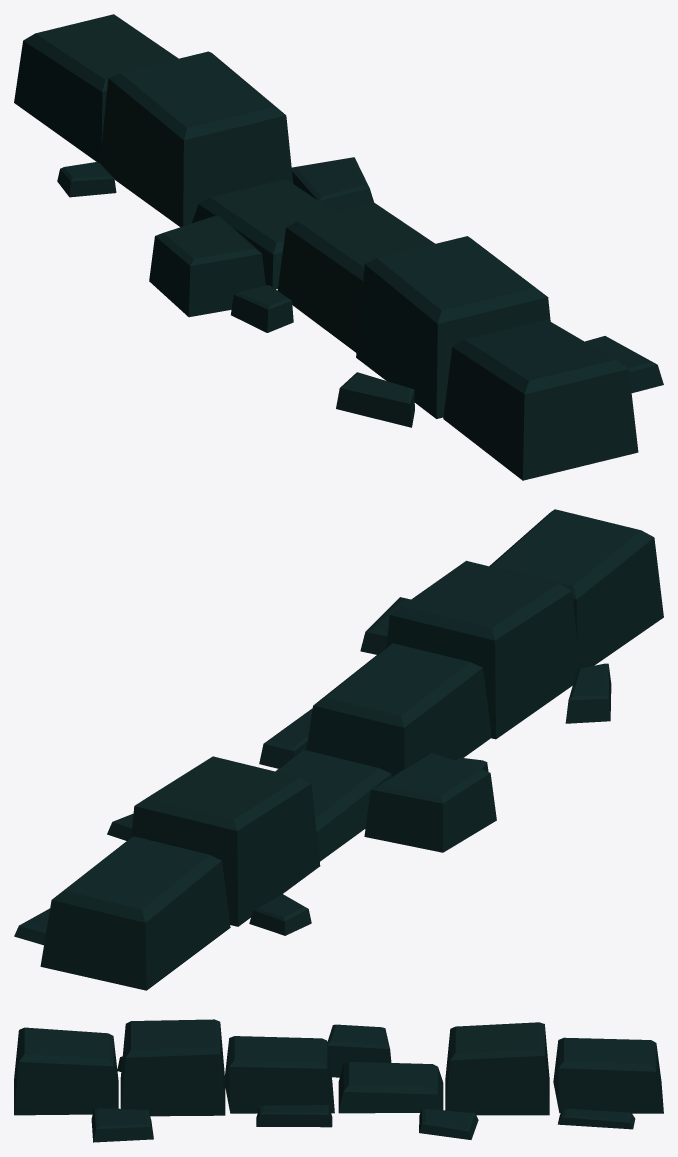
The model's file is fencesection010_stone_0_lev1.glb.
3 views of the same model, one above another, from view 1: azimuth 30°, elevation 25°; view 2: azimuth 150°, elevation 25°; view 3: azimuth 270°, elevation 25° (orthographic). The views are drawn at different scales.
Visible parts, largest first — view 1: fencesection010_stone_0_lev1; view 2: fencesection010_stone_0_lev1; view 3: fencesection010_stone_0_lev1.
Part boxes in pixels (left/top/right/bottom): fencesection010_stone_0_lev1: left=14, top=14, right=663, bottom=480; fencesection010_stone_0_lev1: left=14, top=509, right=663, bottom=990; fencesection010_stone_0_lev1: left=14, top=1019, right=663, bottom=1142.
Size of the model in its own units: 0.7561 by 0.2582 by 2.36.
